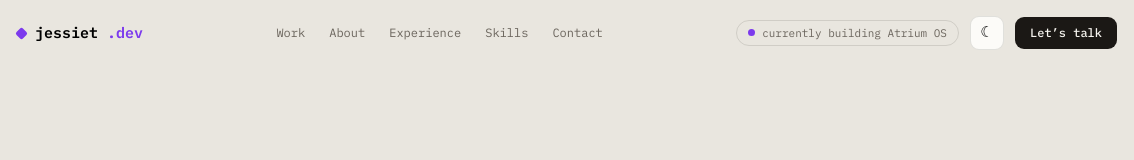
Test case: toggles the dark mode glyph
Click the button named "Toggle dark mode".
click(987, 33)  # box 970,16 -> 1004,50
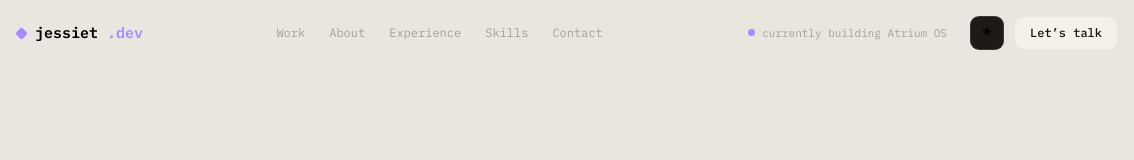
Expected: the button named "Toggle dark mode" reads "☀"
Click the button named "Toggle dark mode".
click(987, 33)  # box 970,16 -> 1004,50
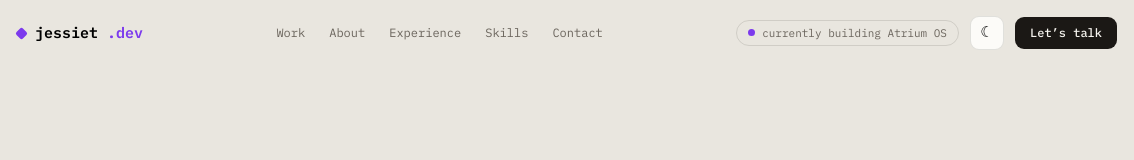
Expected: the button named "Toggle dark mode" reads "☾", 970,16 -> 1004,50
